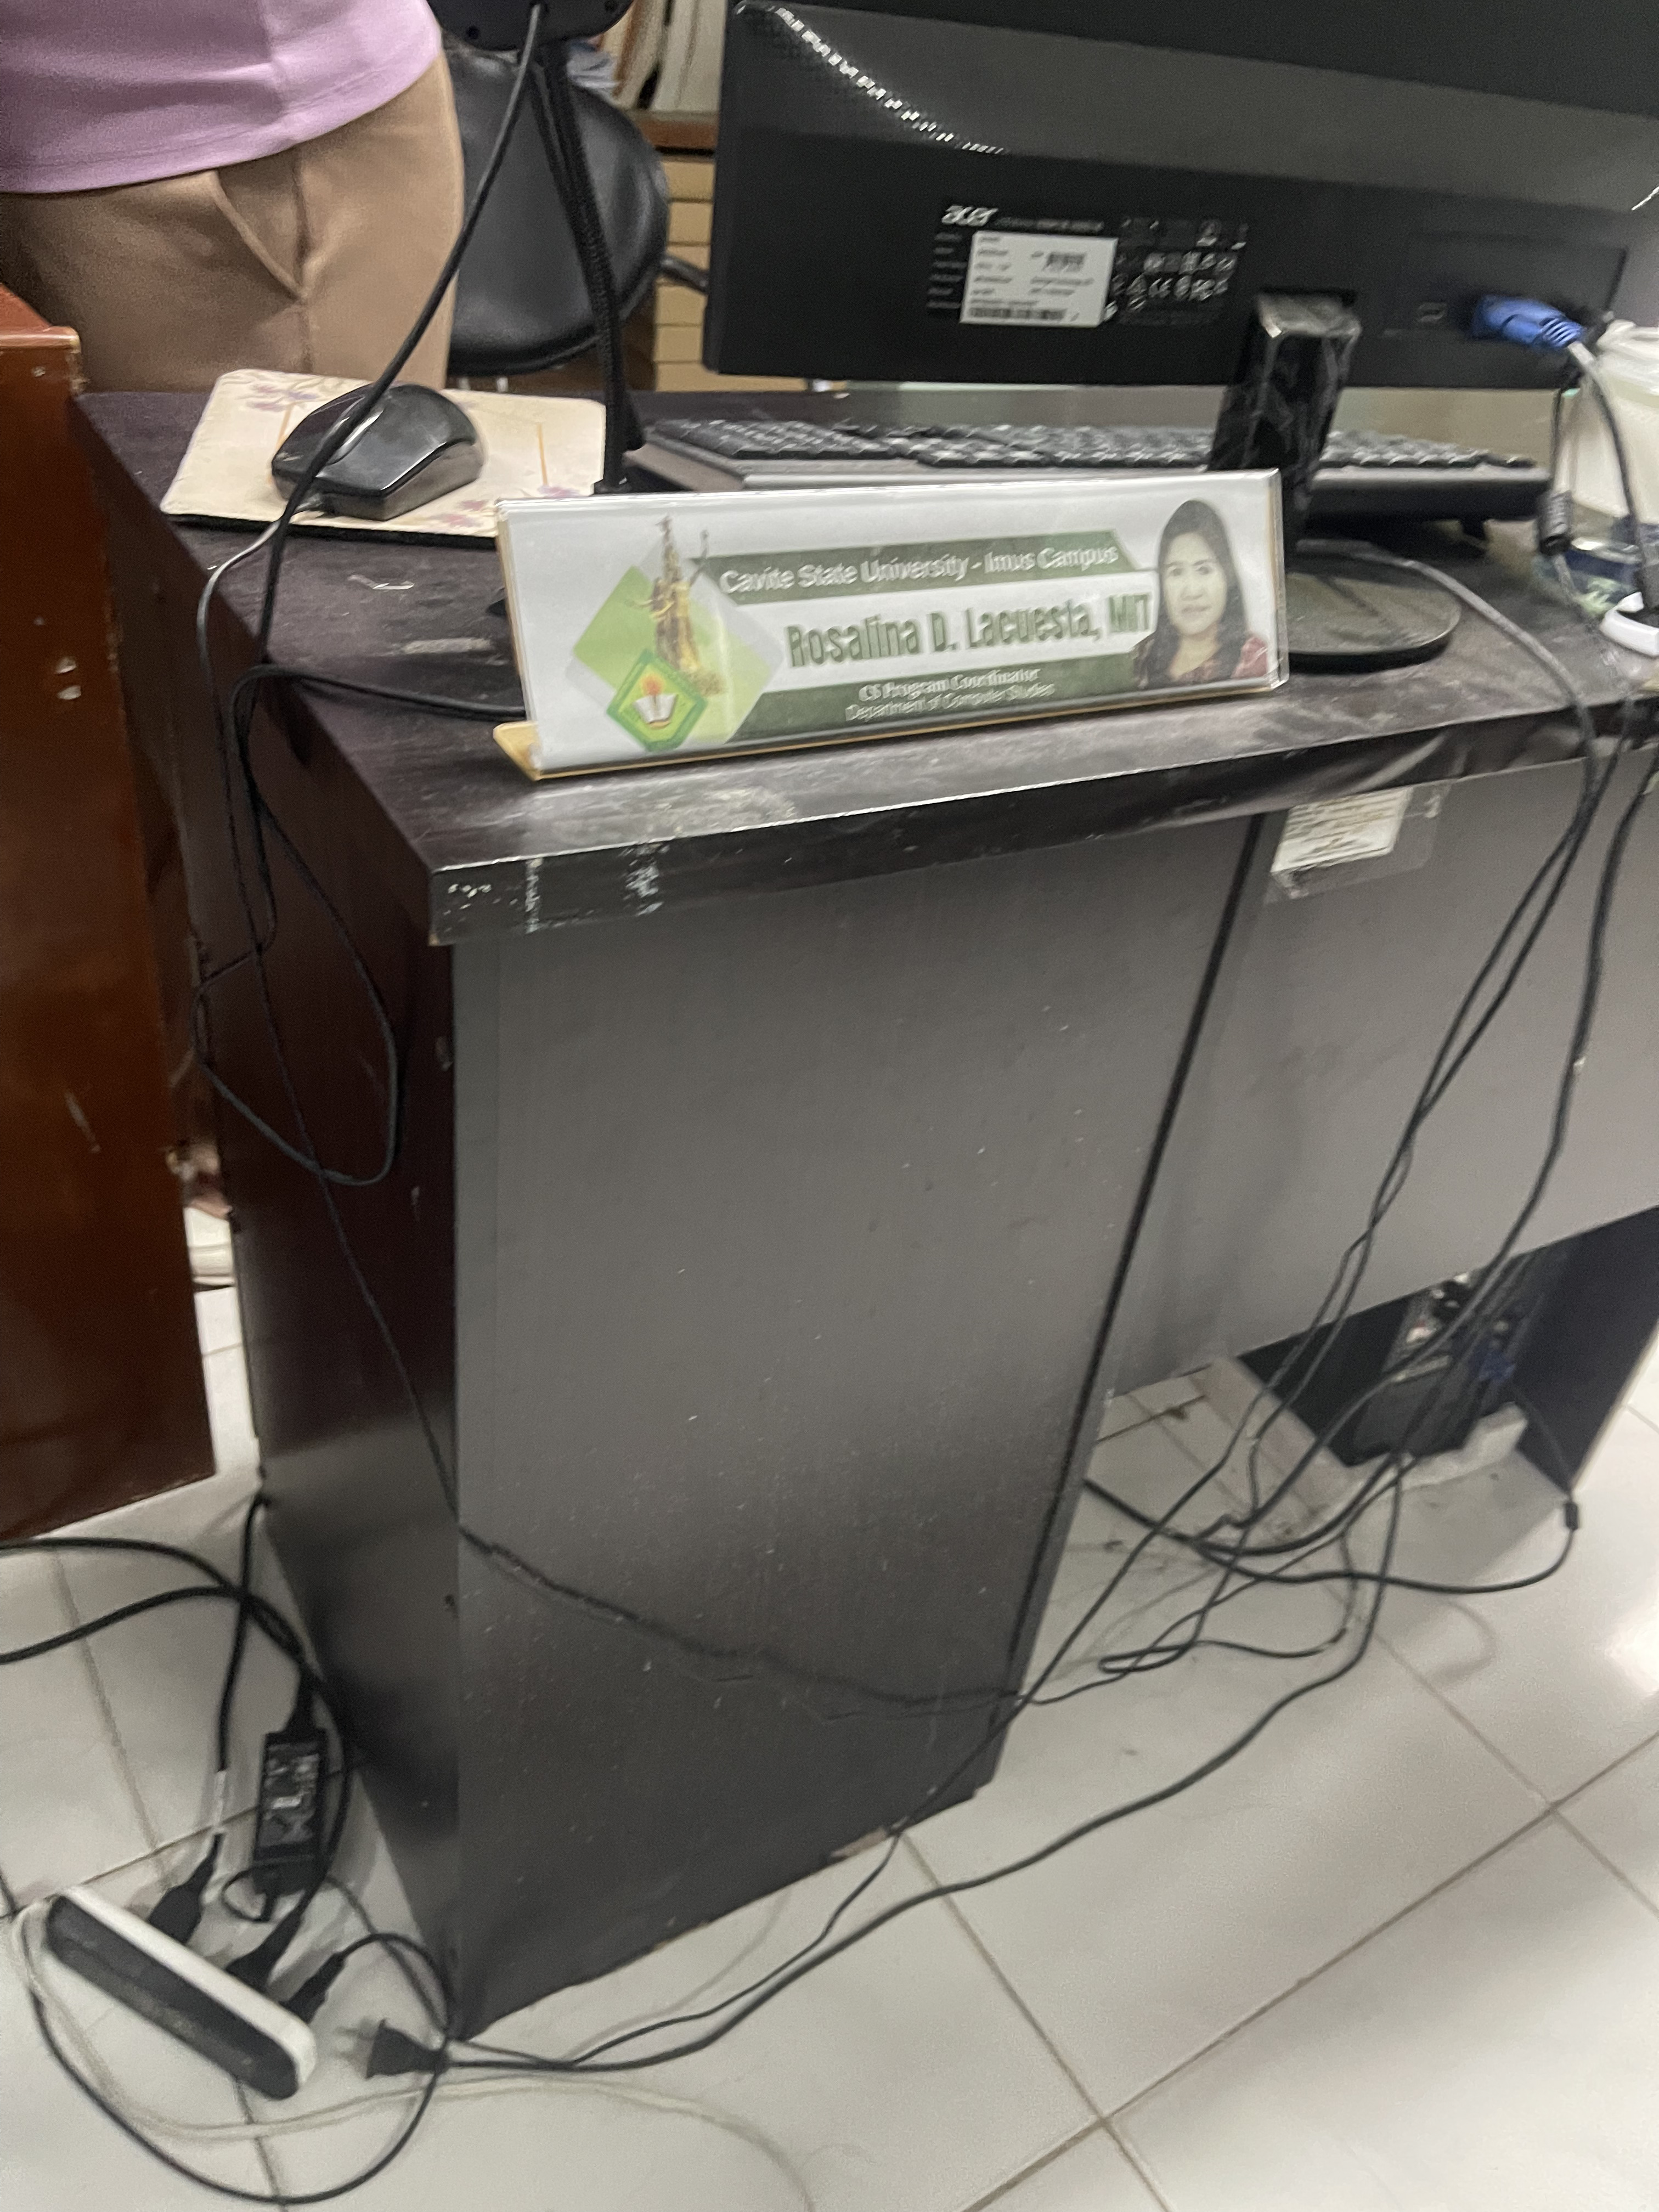table1: (56, 354, 1659, 2045)
